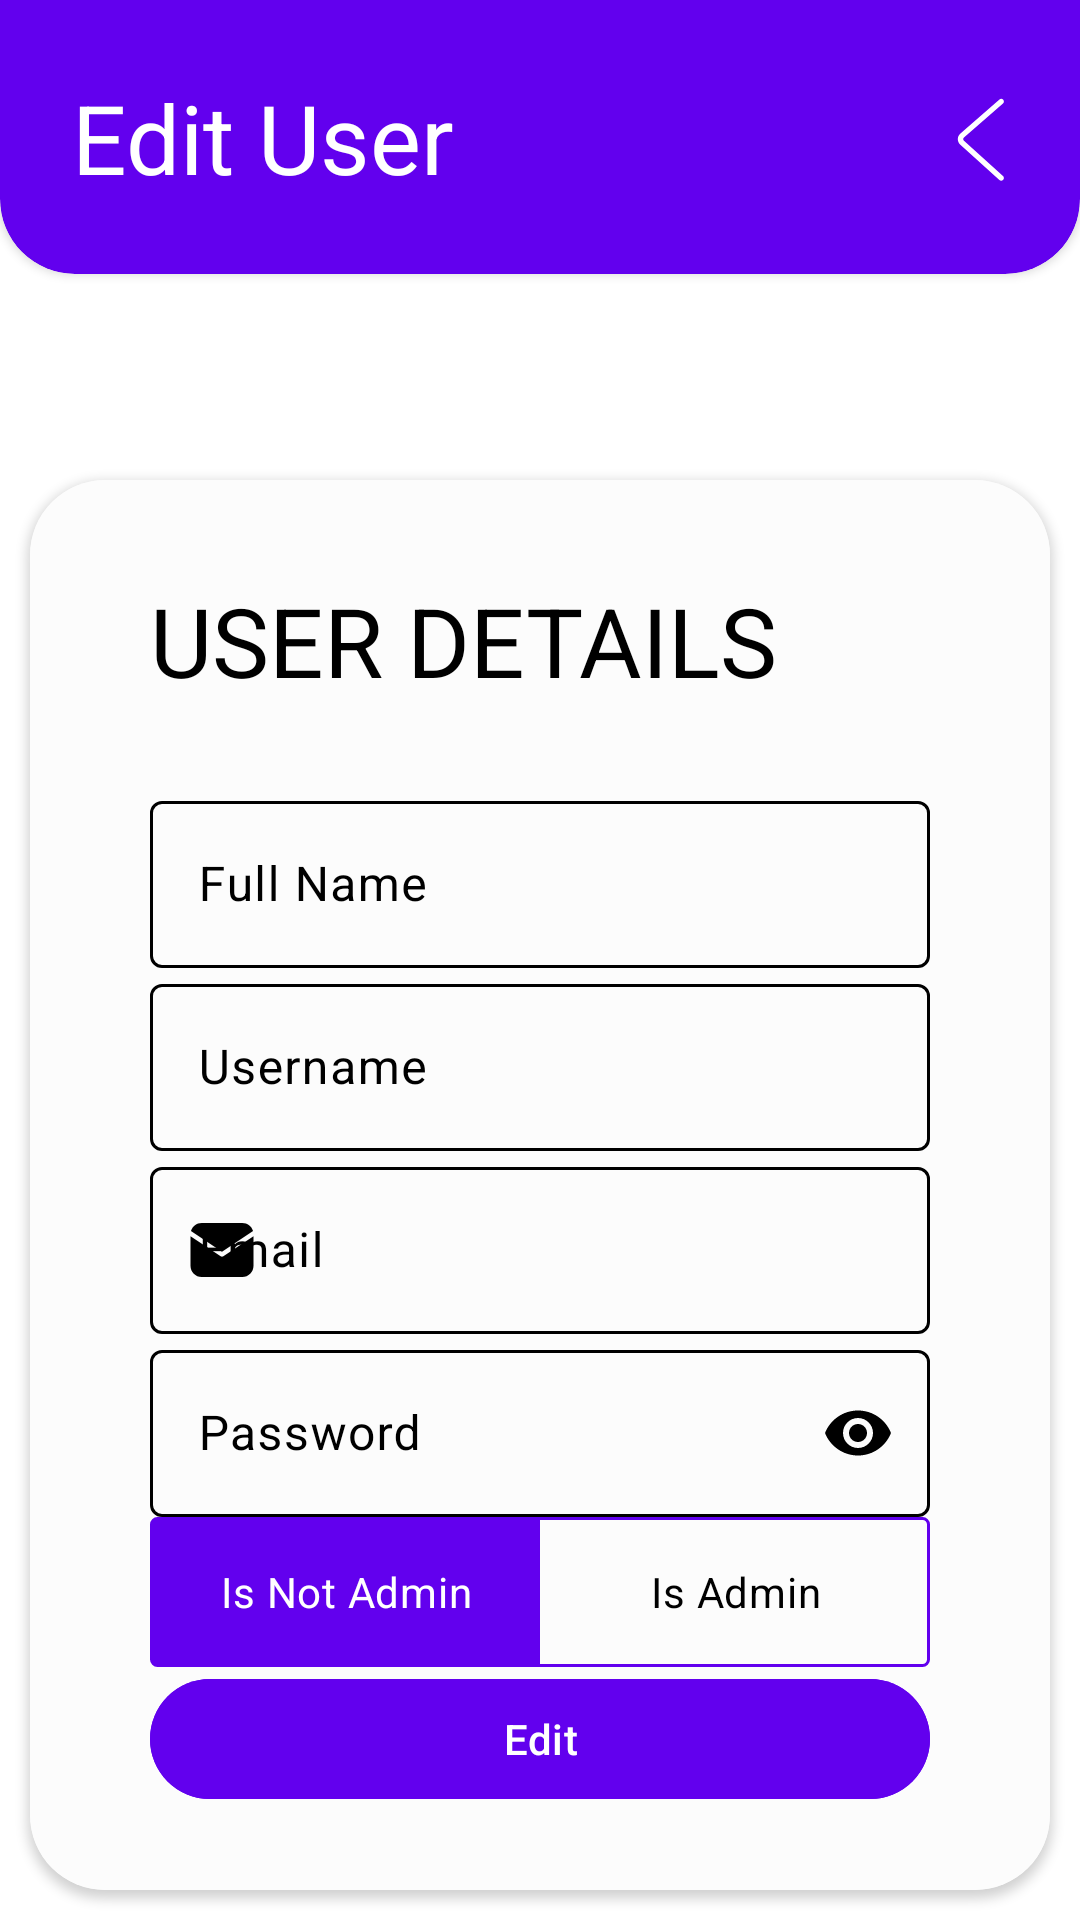

Icon bounding boxes for this 1080px×1920px phone screenshot, format (x1, y1, x2, y2):
back: (957, 98, 1004, 181)
